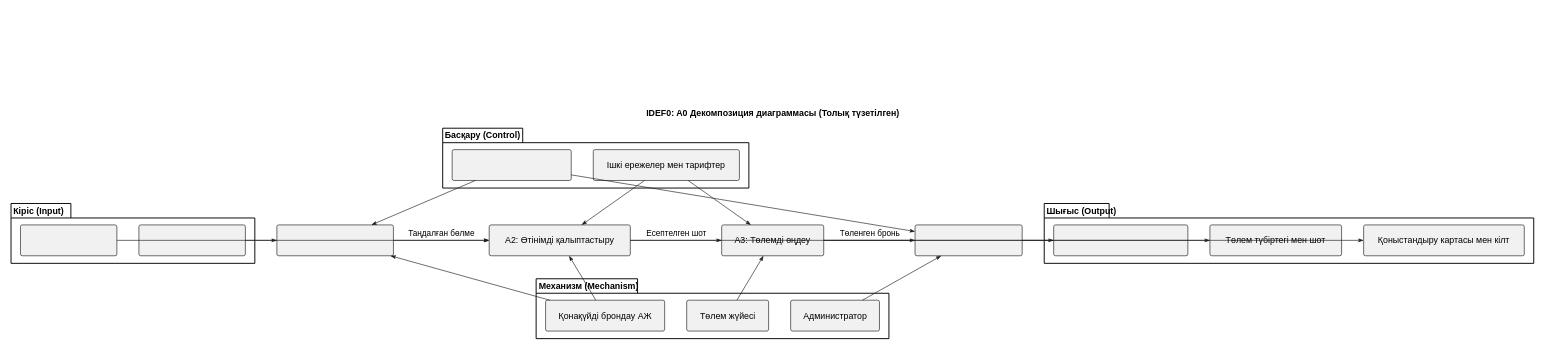
This 1545x350 diagram has some shape labels left out. The shapes that lost their labels are listed below. From the top down, each one's centre as x and y in pixels, then its label:
At pixel 511 164: "ҚР Қонақүй заңнамасы".
At pixel 68 240: "Брондау өтінімі".
At pixel 191 240: "Қонақ мәліметтері".
At pixel 334 240: "A1: Бөлмелерді іздеу".
At pixel 968 240: "A4: Қонақты тіркеу".
At pixel 1120 240: "Расталған бронь (Резерв)".
